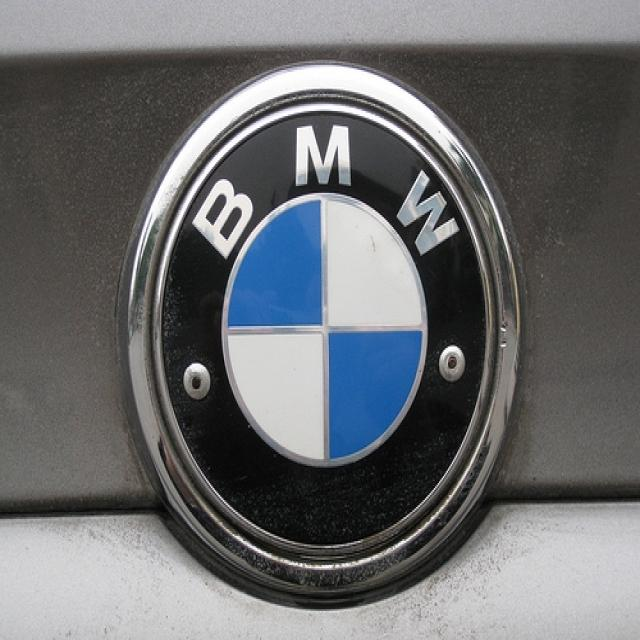bmw: (115, 54, 526, 603)
